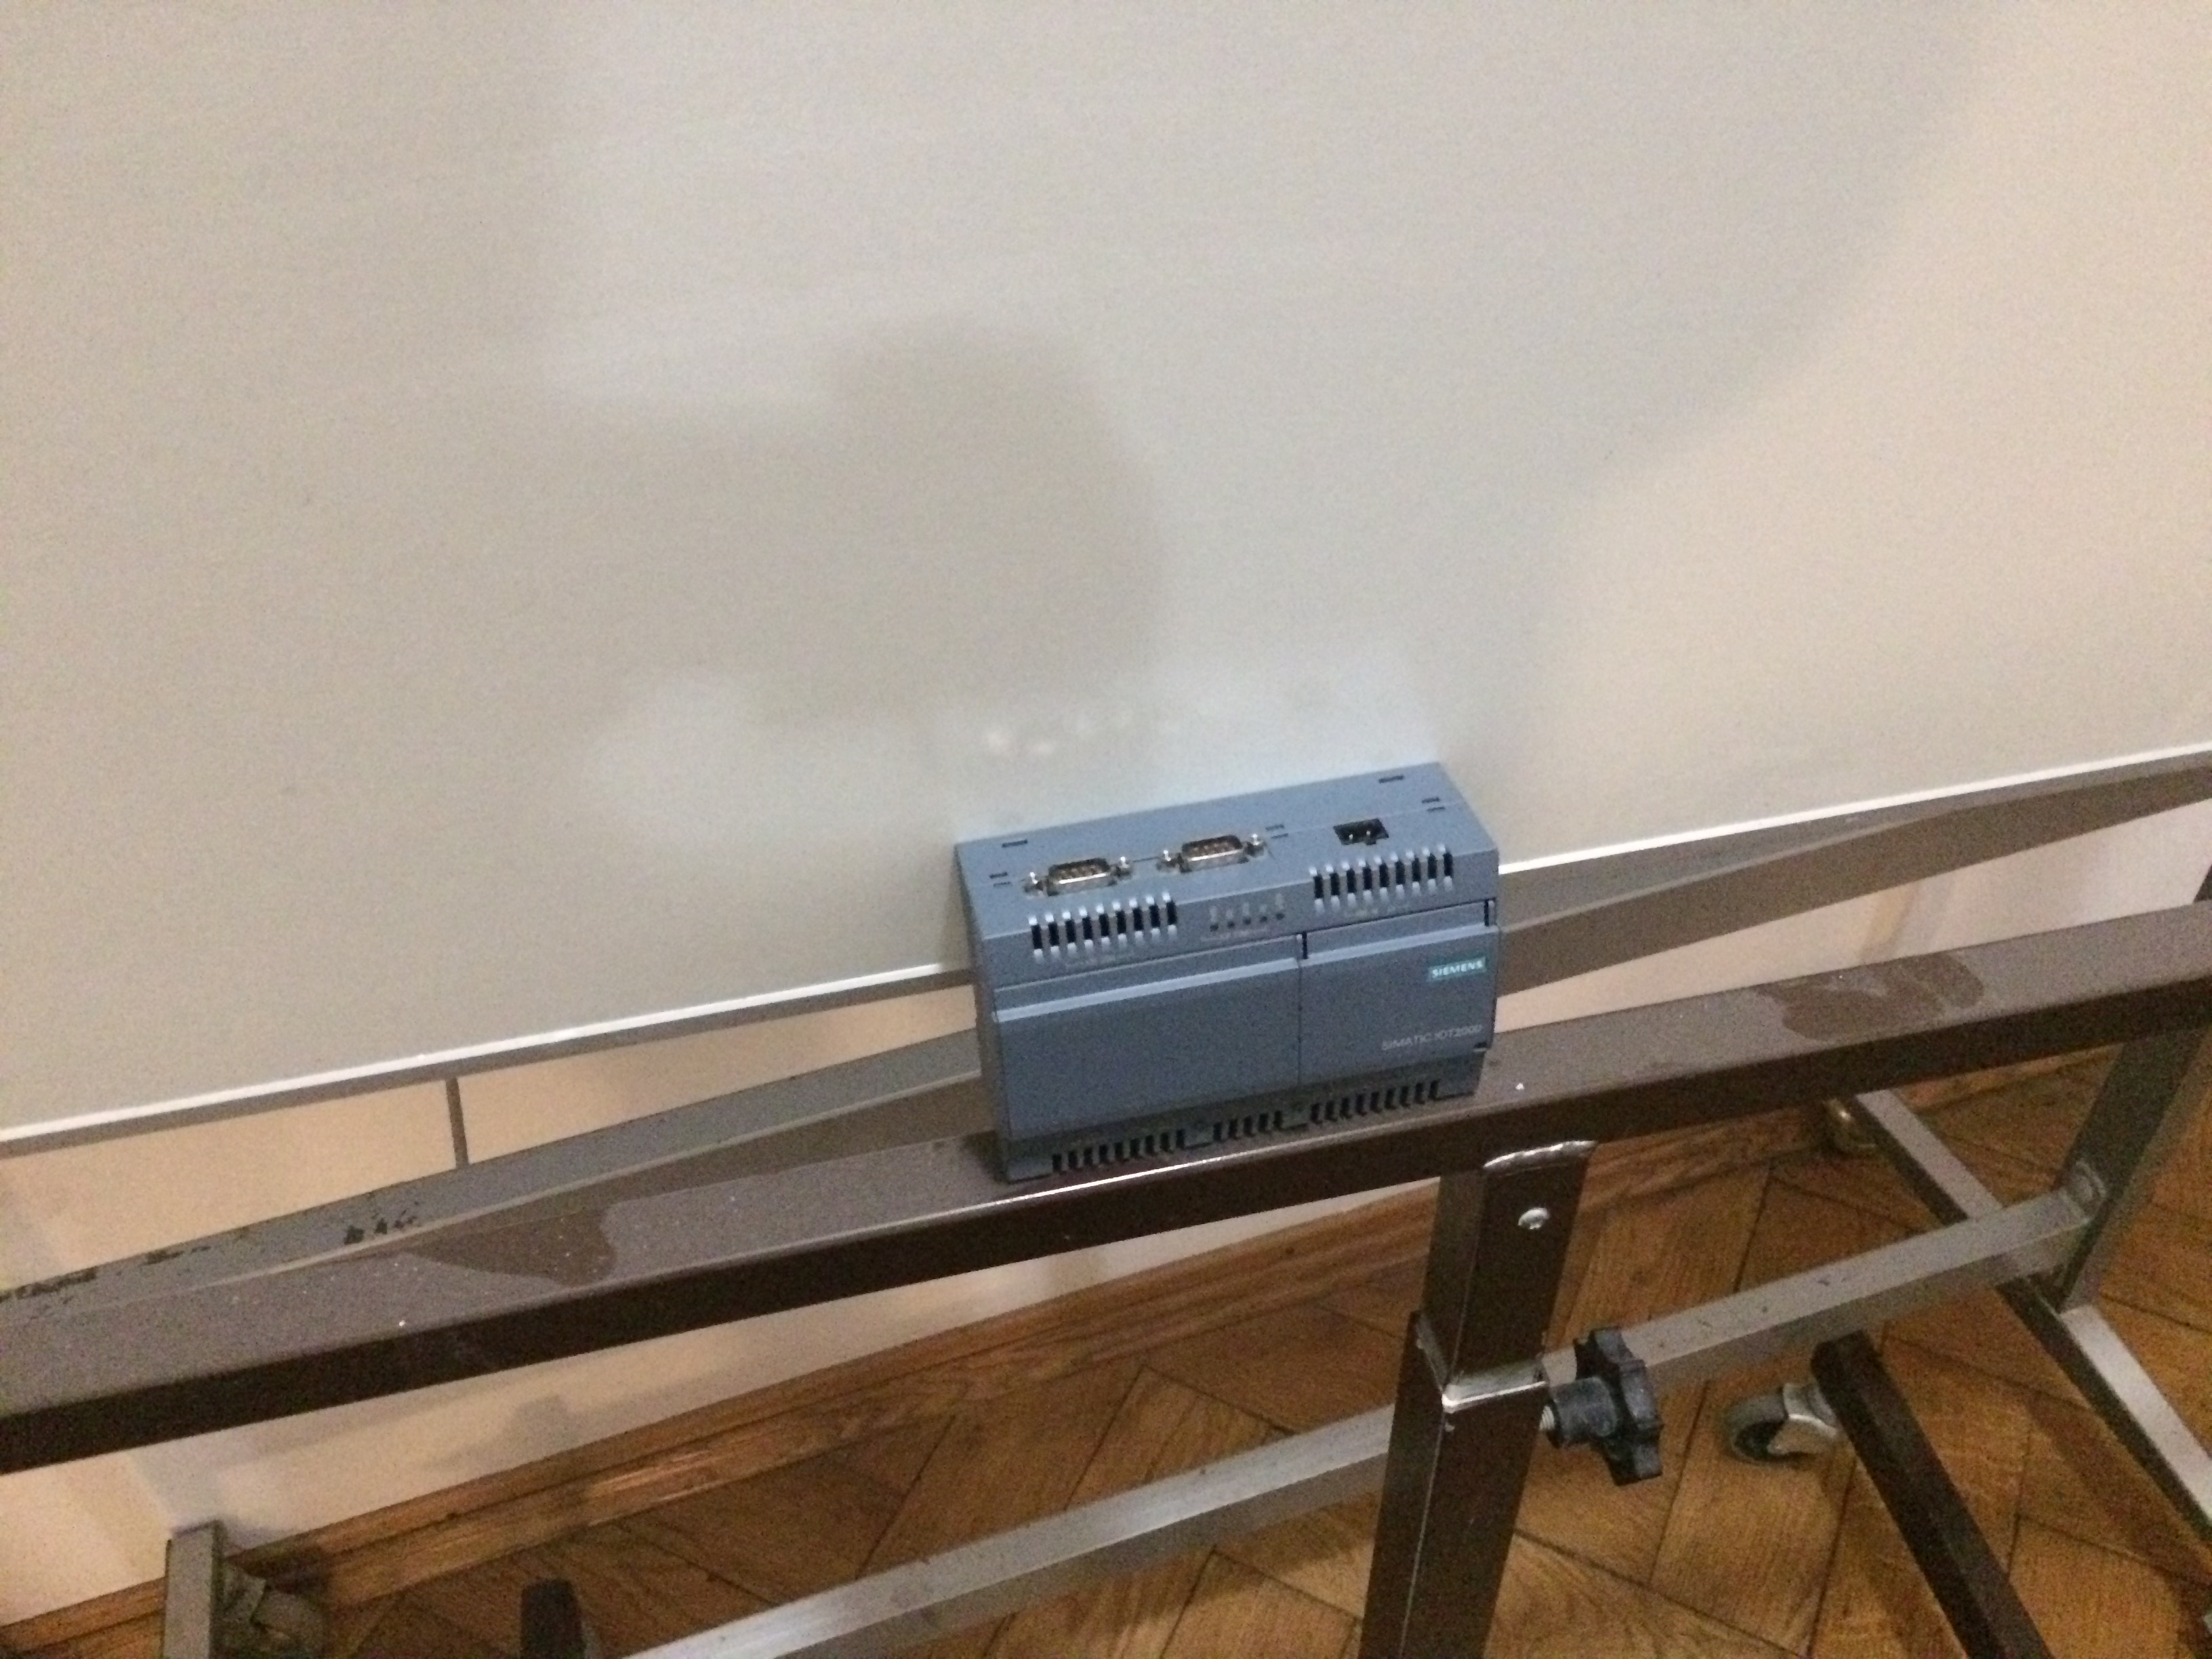iot2000: (951, 758, 1505, 1188)
